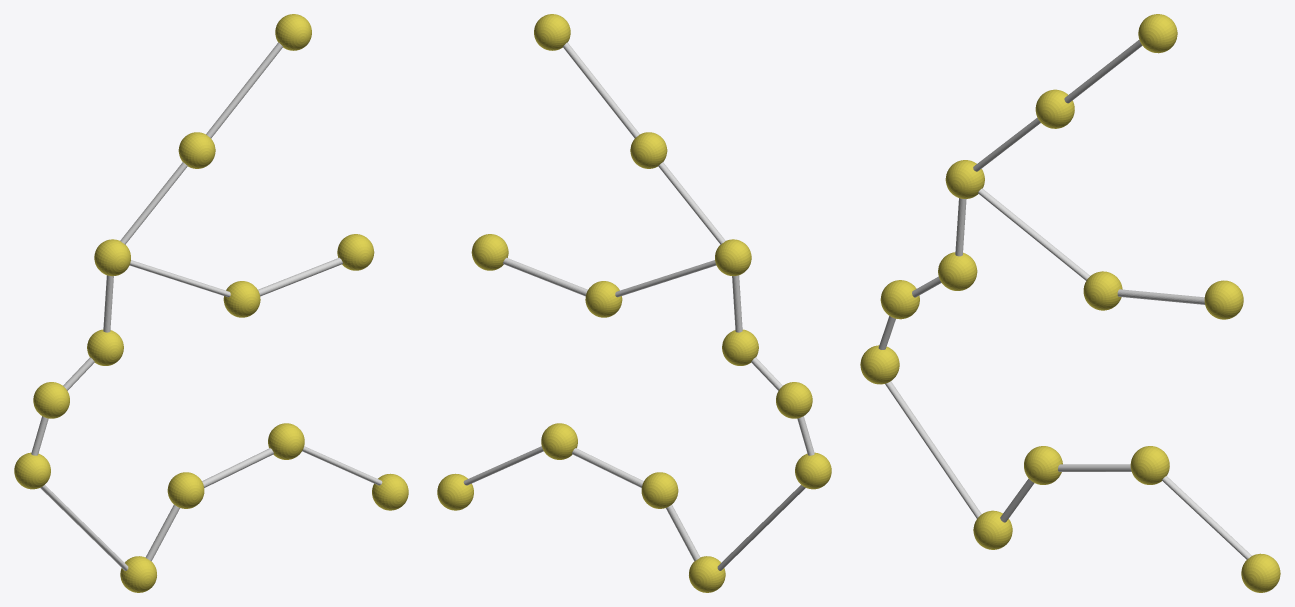
File: aquarius.glb
3 views of the same model, side by side, from view 1: azimuth 30°, elevation 25°; view 2: azimuth 150°, elevation 25°; view 3: azimuth 330°, elevation 25° (orthographic). The views are drawn at different scales.
Visible parts, largest first — view 1: Mesh_Mesh_head_geo.001_lambert2SG.001; view 2: Mesh_Mesh_head_geo.001_lambert2SG.001; view 3: Mesh_Mesh_head_geo.001_lambert2SG.001.
Boxes of the visible parts, x1,y1,x2,y2 form: Mesh_Mesh_head_geo.001_lambert2SG.001: (14, 14, 408, 592); Mesh_Mesh_head_geo.001_lambert2SG.001: (437, 14, 831, 592); Mesh_Mesh_head_geo.001_lambert2SG.001: (860, 14, 1280, 592).
Bounding box in the file's own units: 122 × 161 × 10.
